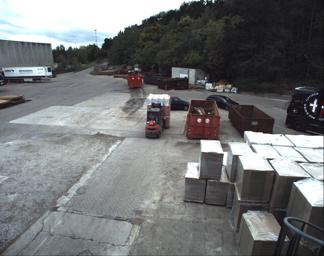rockwool_batts: (148, 93, 171, 128)
